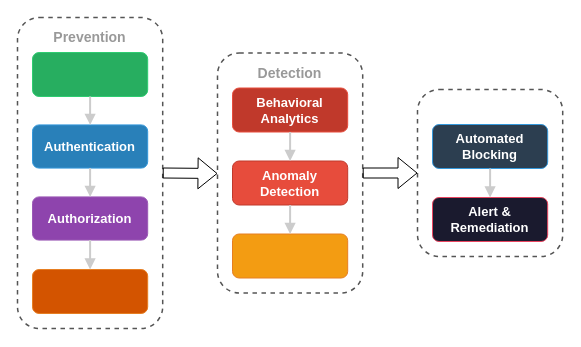
The diagram is 581 pixels wide and 347 high, and some of its shapes have lost their labels. The shapes that lost their labels are listed below. From the top down, each one's box as (x1, y1, x2, y2) in pixels, then its label:
(32, 52, 148, 96): Input Validation
(416, 88, 563, 257): Response
(232, 233, 348, 278): Threat Intelligence
(32, 268, 148, 314): Data Access Controls
